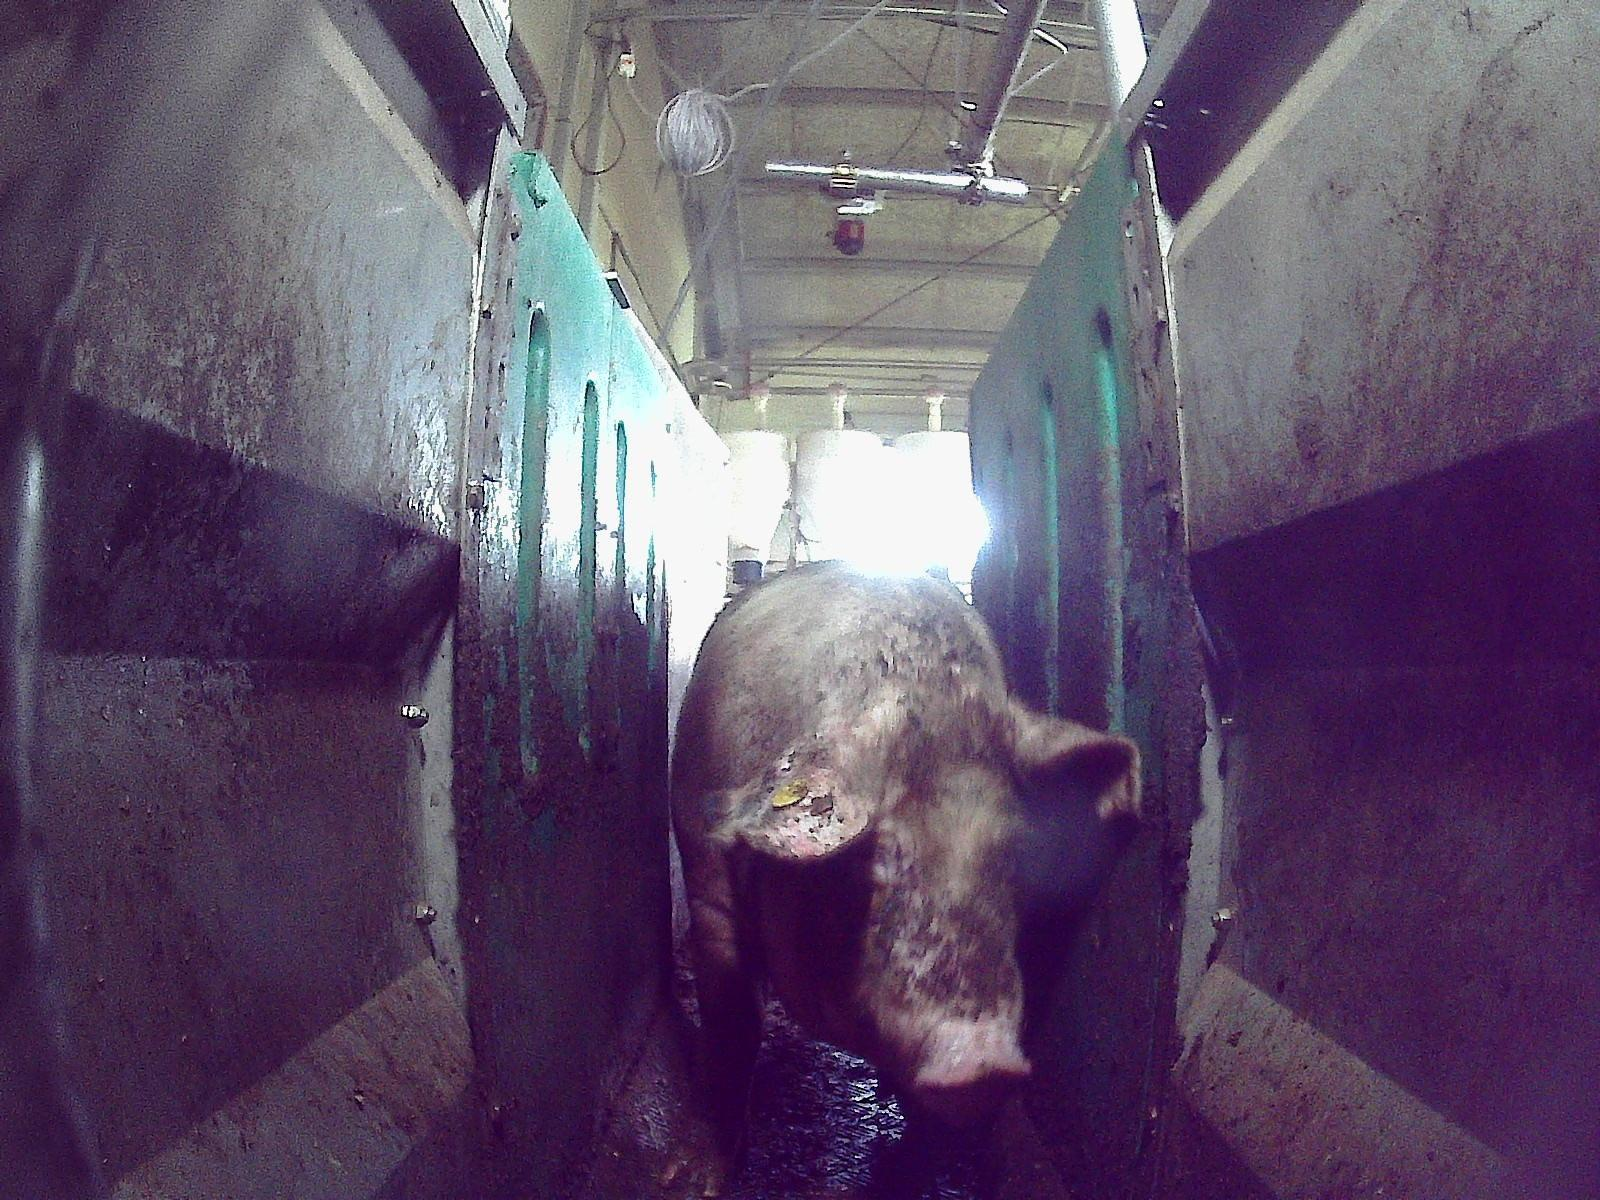Face: (734, 671, 1031, 1130)
